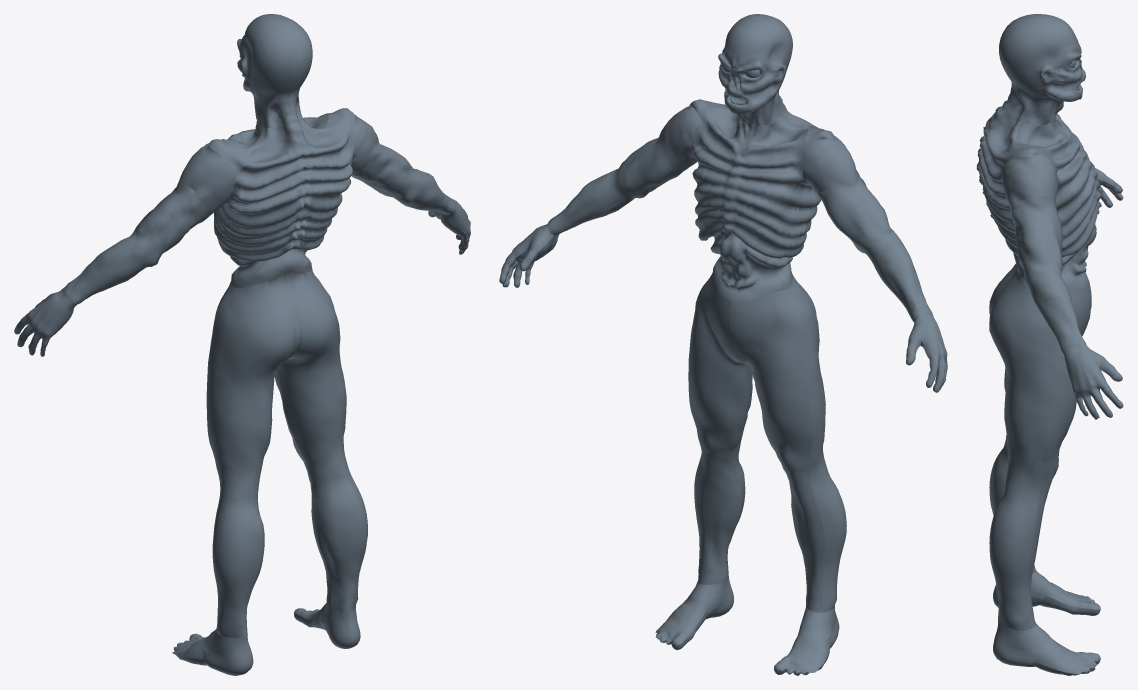
3 renders of one model, left to right at view 1: azimuth 30°, elevation 25°; view 2: azimuth 150°, elevation 25°; view 3: azimuth 270°, elevation 25°, orthographic.
Visible parts, largest first — view 1: Mesh25 Group13 Group12 Group11 Group10 Group5 Group4 Group3 Grou; view 2: Mesh25 Group13 Group12 Group11 Group10 Group5 Group4 Group3 Grou; view 3: Mesh25 Group13 Group12 Group11 Group10 Group5 Group4 Group3 Grou.
Part boxes in pixels (x1,y1,x2,y2): Mesh25 Group13 Group12 Group11 Group10 Group5 Group4 Group3 Grou: (14, 14, 470, 675); Mesh25 Group13 Group12 Group11 Group10 Group5 Group4 Group3 Grou: (499, 14, 947, 675); Mesh25 Group13 Group12 Group11 Group10 Group5 Group4 Group3 Grou: (976, 14, 1123, 675).
Bounding box in the file's own units: 5486 × 7441 × 1591.
